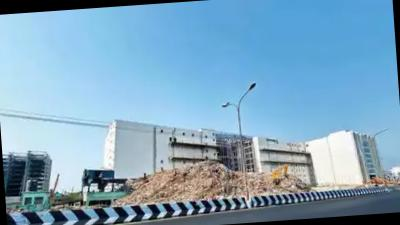road: (111, 191, 400, 225)
sky: (0, 0, 400, 168), (0, 116, 106, 190)
